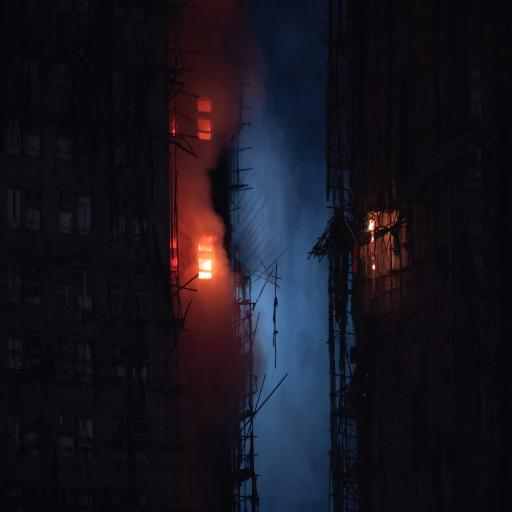buildingfire: (132, 0, 302, 512)
